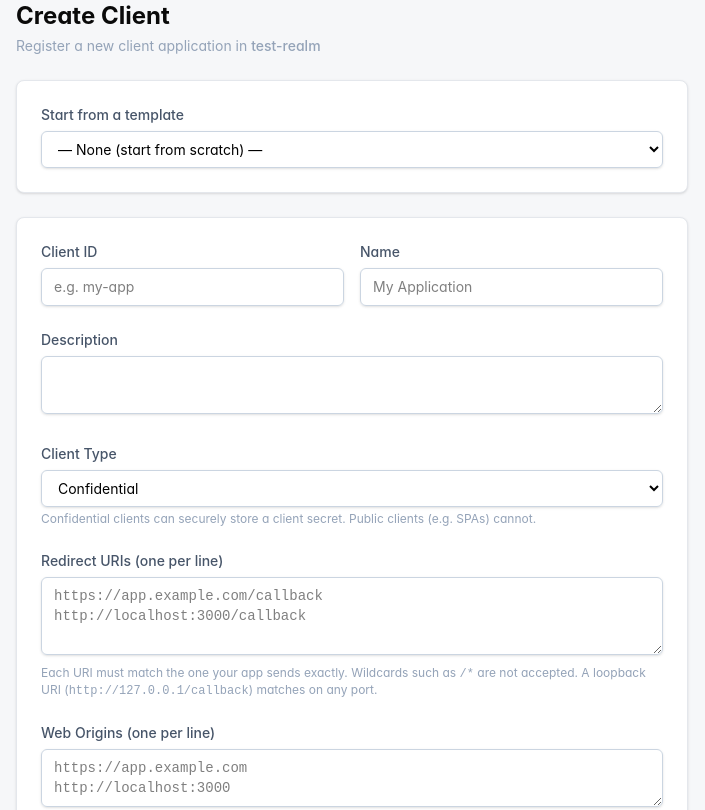
Test: ClientCreatePage › shows a "Go to Clients" button on the success screen
Type "new-client" into the field labelled "Client ID" at (192, 287), box left=41, top=268, right=344, bottom=306
(page scrolled)
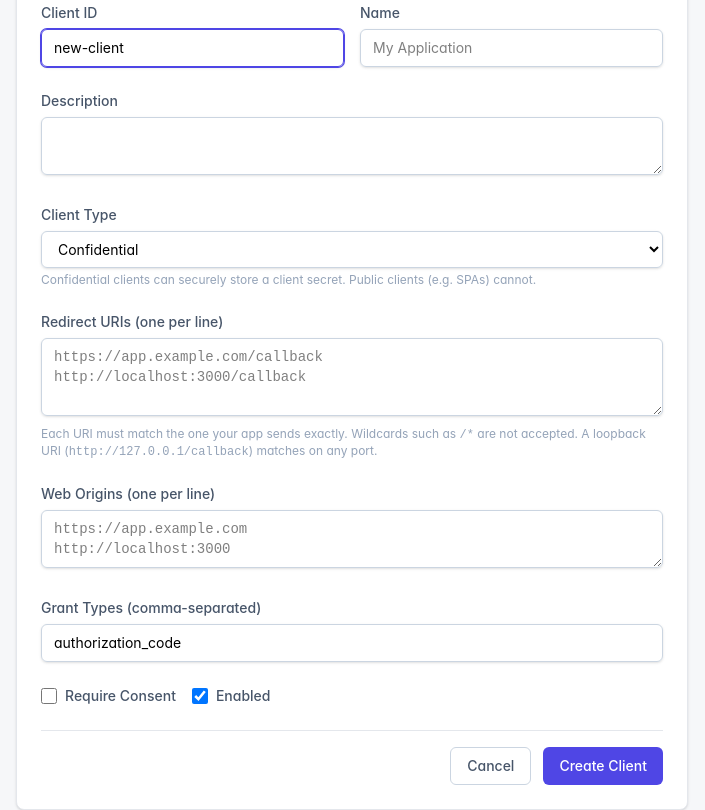
Click the button "Create Client" at (603, 766), box left=543, top=747, right=663, bottom=785
(page scrolled)
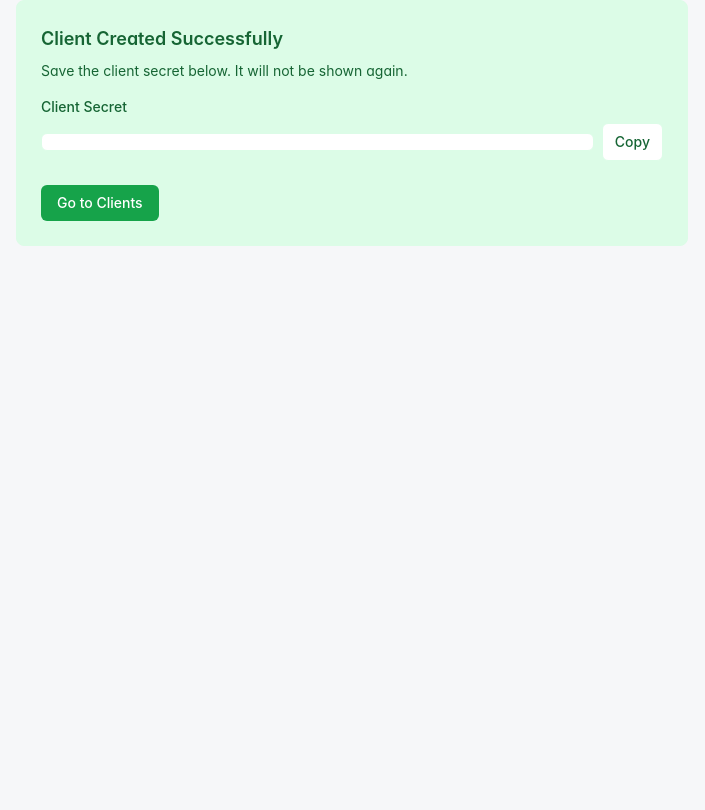
Expected: the button "Go to Clients" is shown, left=41, top=185, right=159, bottom=221
